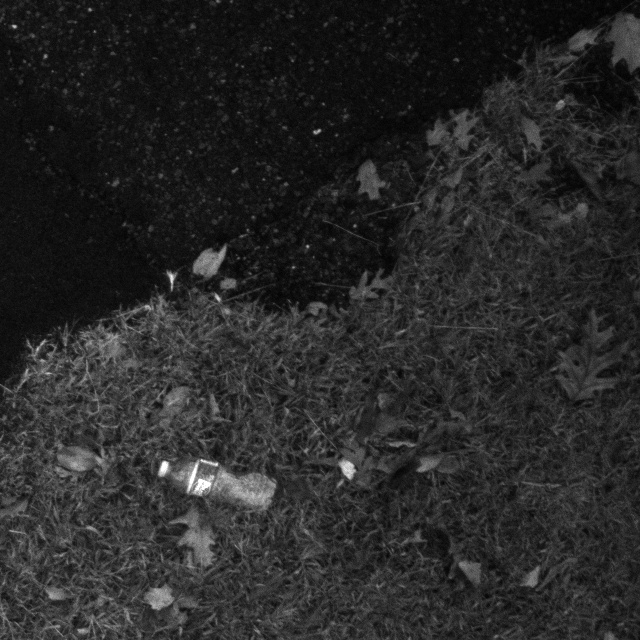bottle: (140, 446, 288, 523)
